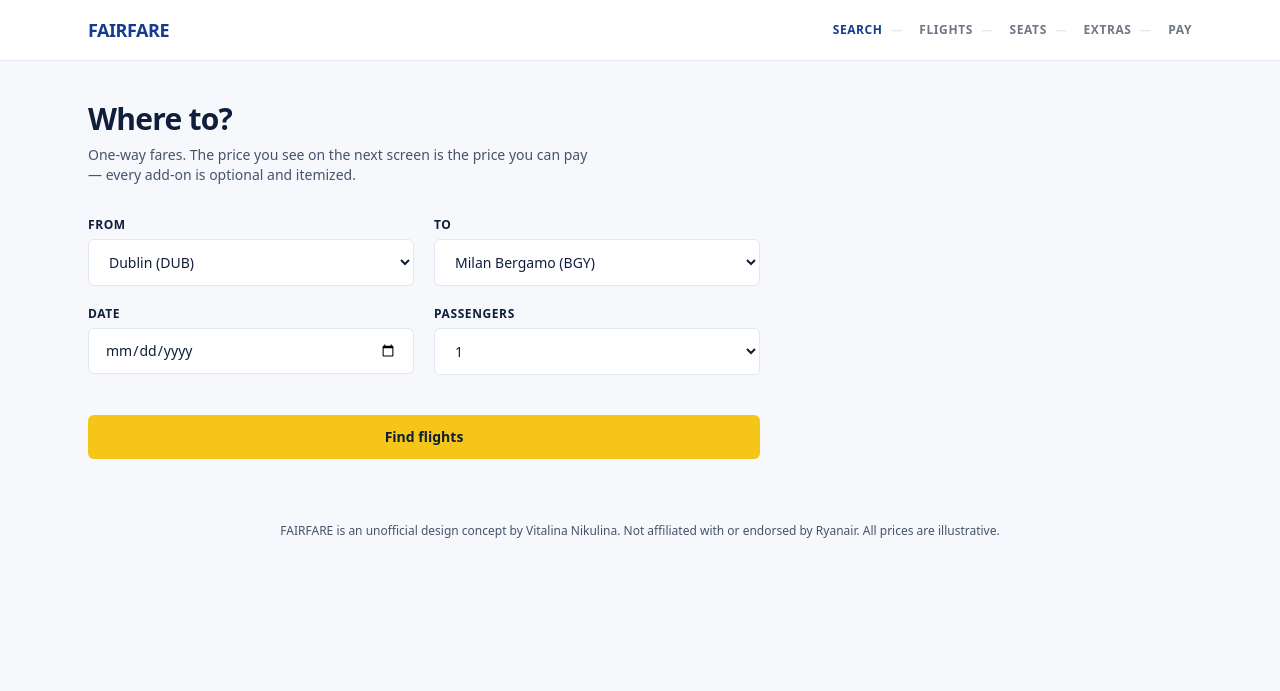
Scenario: search screen › blocks same from/to, requires a date, then navigates
Expected: the heading "Where to?" is shown, [88,98,232,139]
Select "Dublin (DUB)" in the dropdown labelled "To". click: {"x": 597, "y": 262}
box: [434,239,760,286]
Click the button "Find flights". click: {"x": 424, "y": 437}
box: [88,415,760,459]
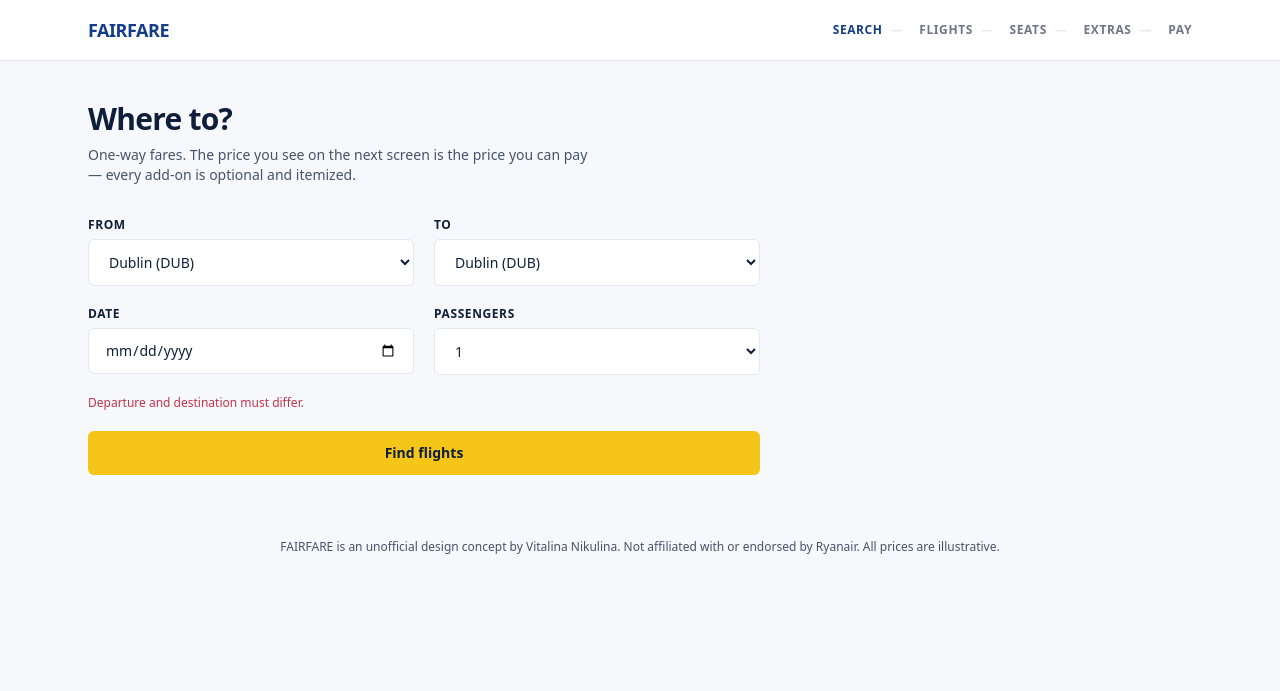
Expected: the text "Departure and destination must differ." is shown, [88,394,304,411]
Select "Milan Bergamo (BGY)" in the dropdown labelled "To". click: {"x": 597, "y": 262}
box: [434,239,760,286]
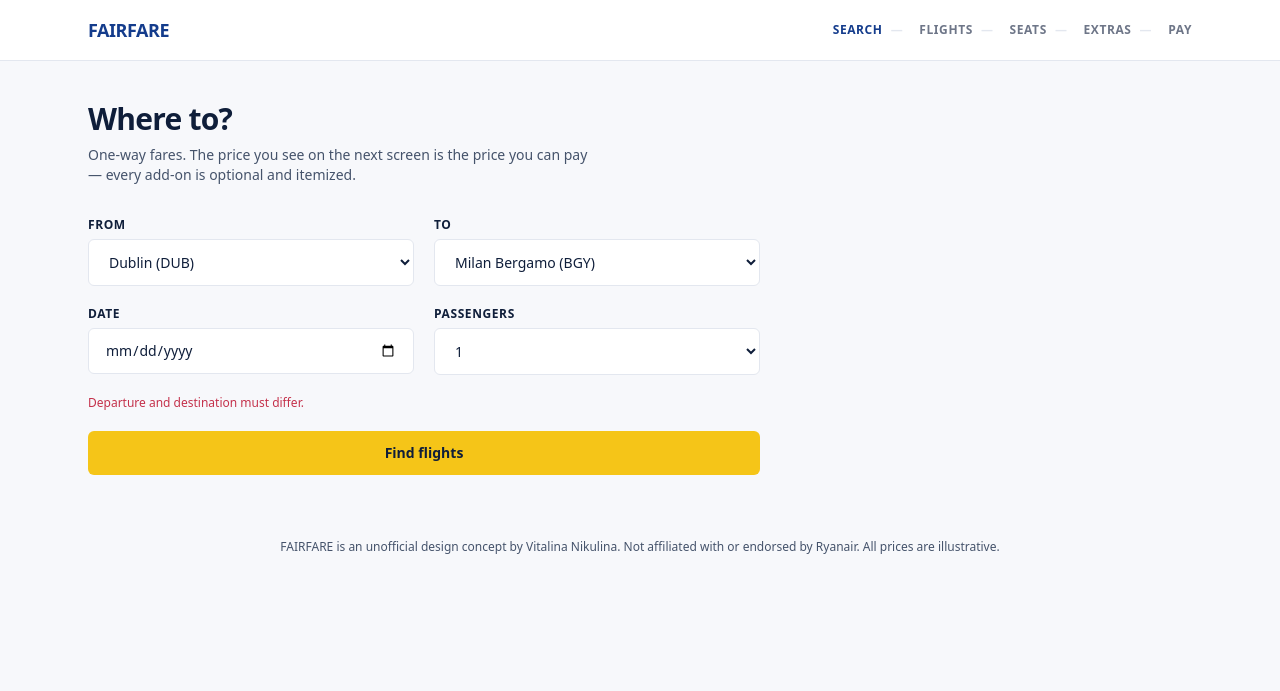
Click the button "Find flights". click: {"x": 424, "y": 453}
box: [88,431,760,475]
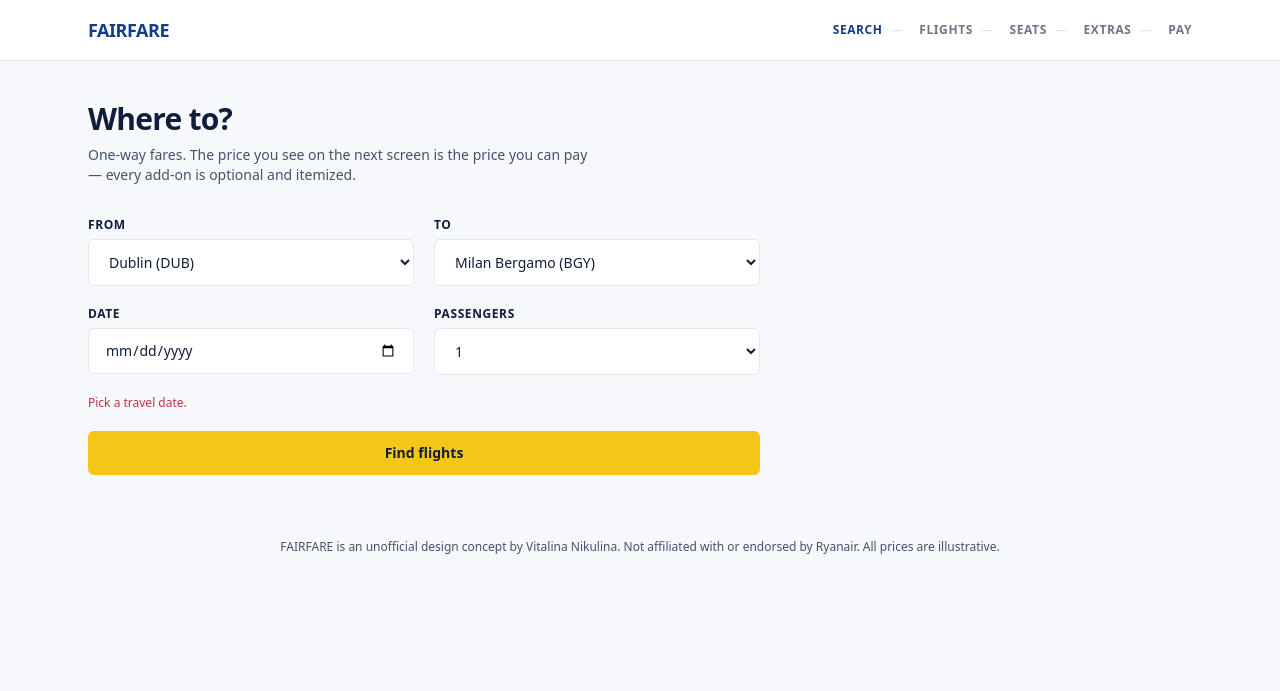
Expected: the text "Pick a travel date." is shown, [88,394,187,411]
Type "2026-09-10" into the date field labelled "Date". click: {"x": 251, "y": 351}
box: [88,328,414,374]
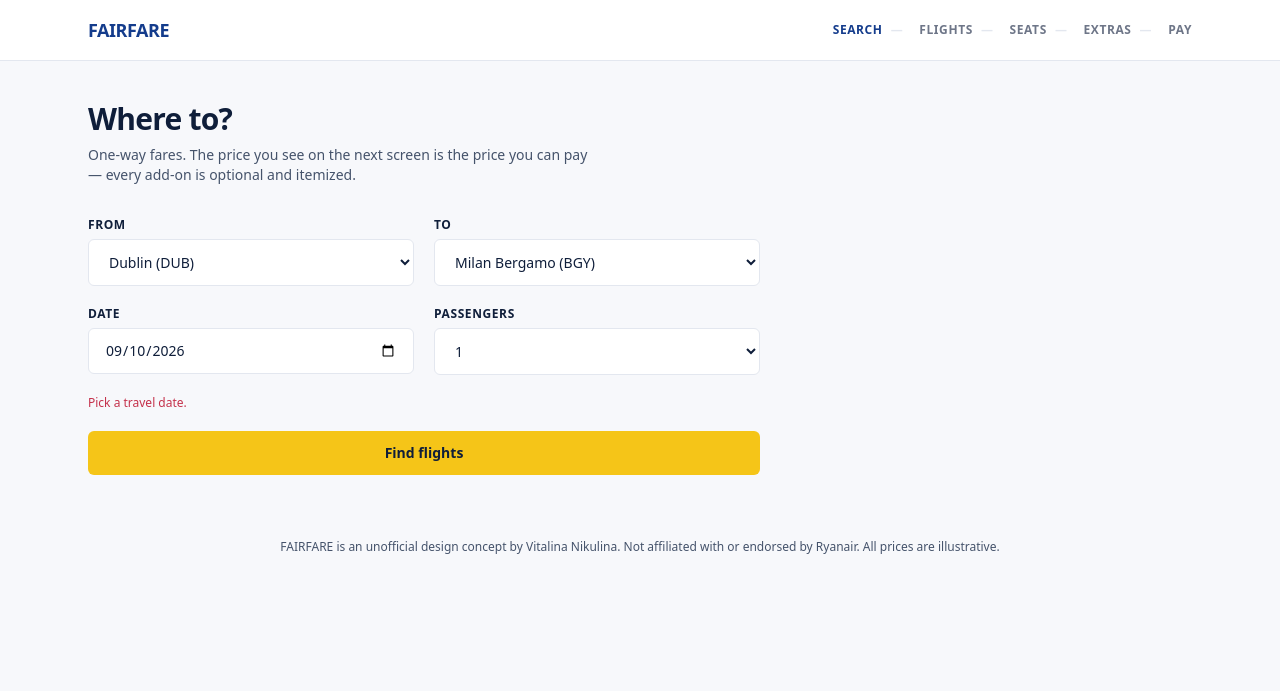
Select "2" in the dropdown labelled "Passengers". click: {"x": 597, "y": 352}
box: [434,328,760,375]
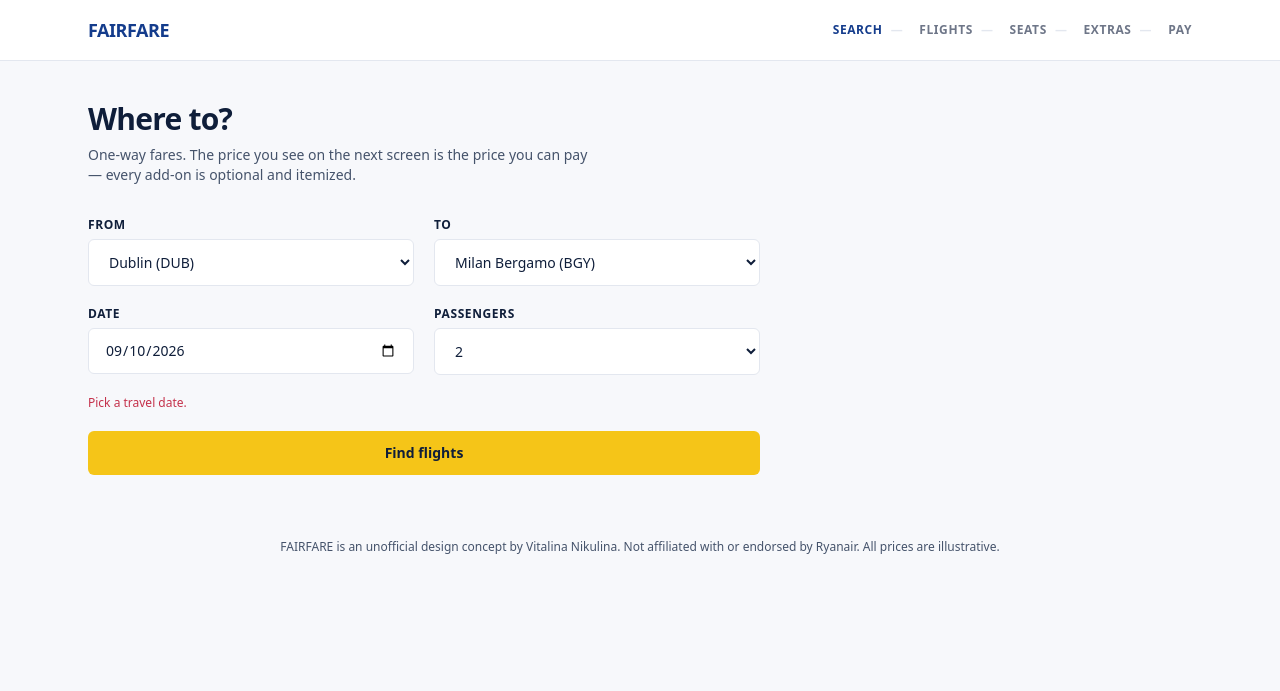
Click the button "Find flights". click: {"x": 424, "y": 453}
box: [88,431,760,475]
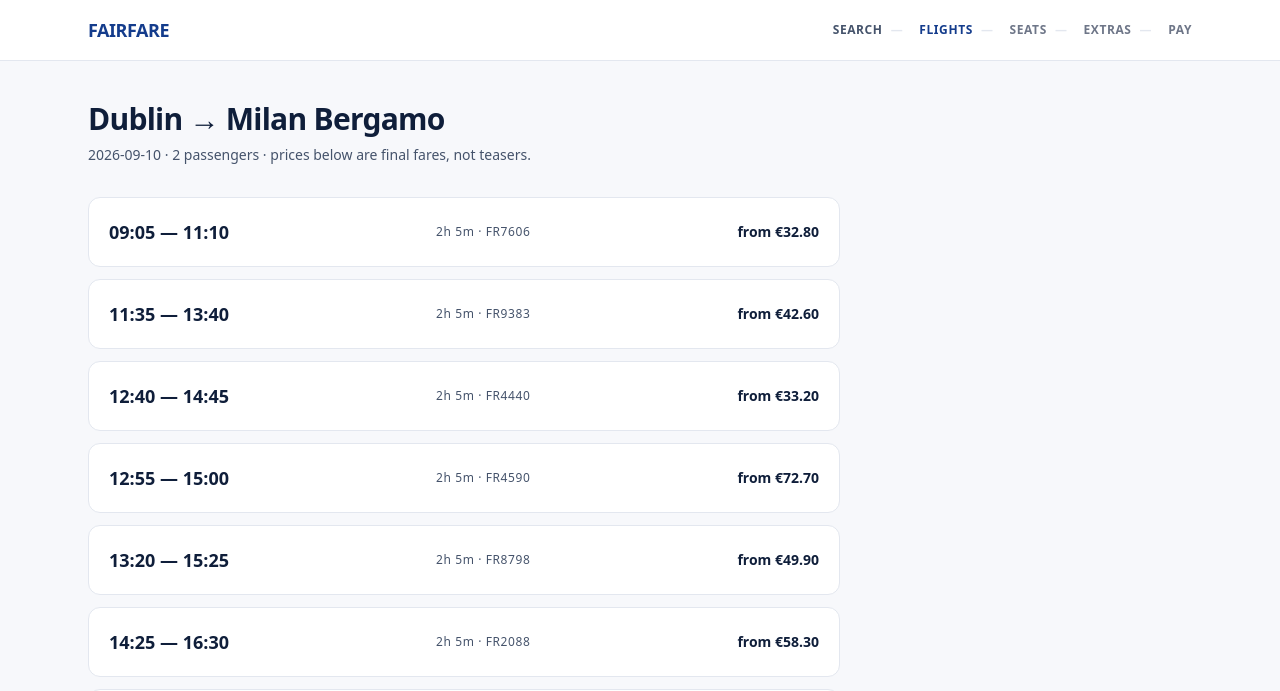
Expected: the heading "Dublin → Milan Bergamo" is shown, [88,98,445,139]
